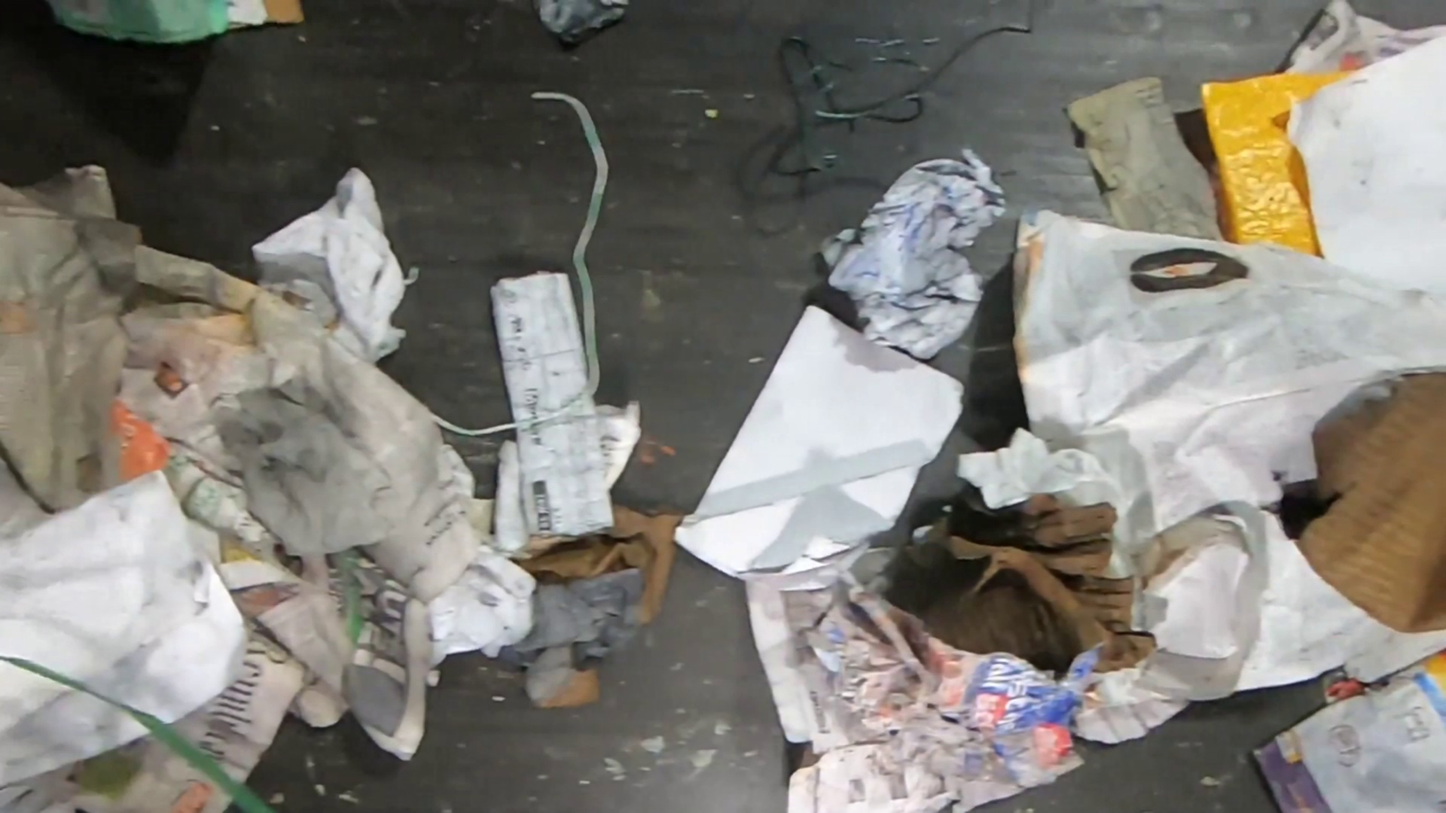cardboard: (882, 485, 1156, 678), (1299, 373, 1446, 635), (50, 1, 303, 44)
